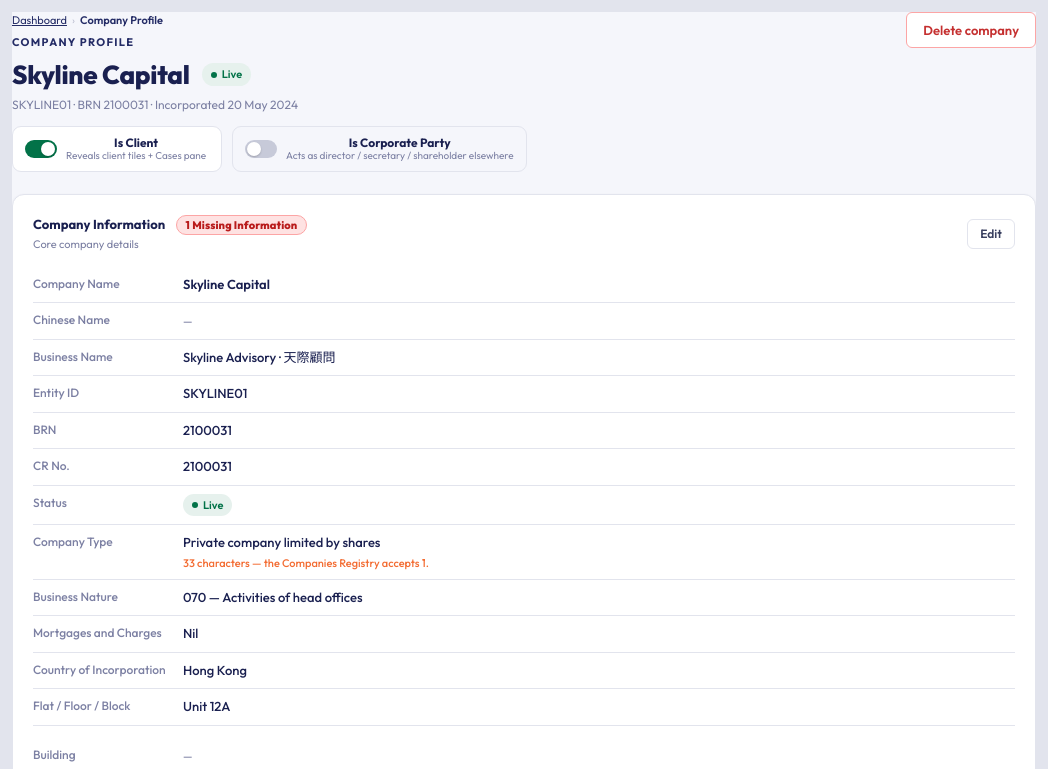
Test: CompanyProfilePage — the CR form fields › keeps a legacy free-text company type visible rather than blanking it
Click the button "Edit" at (991, 234), box 967,219 -> 1015,249
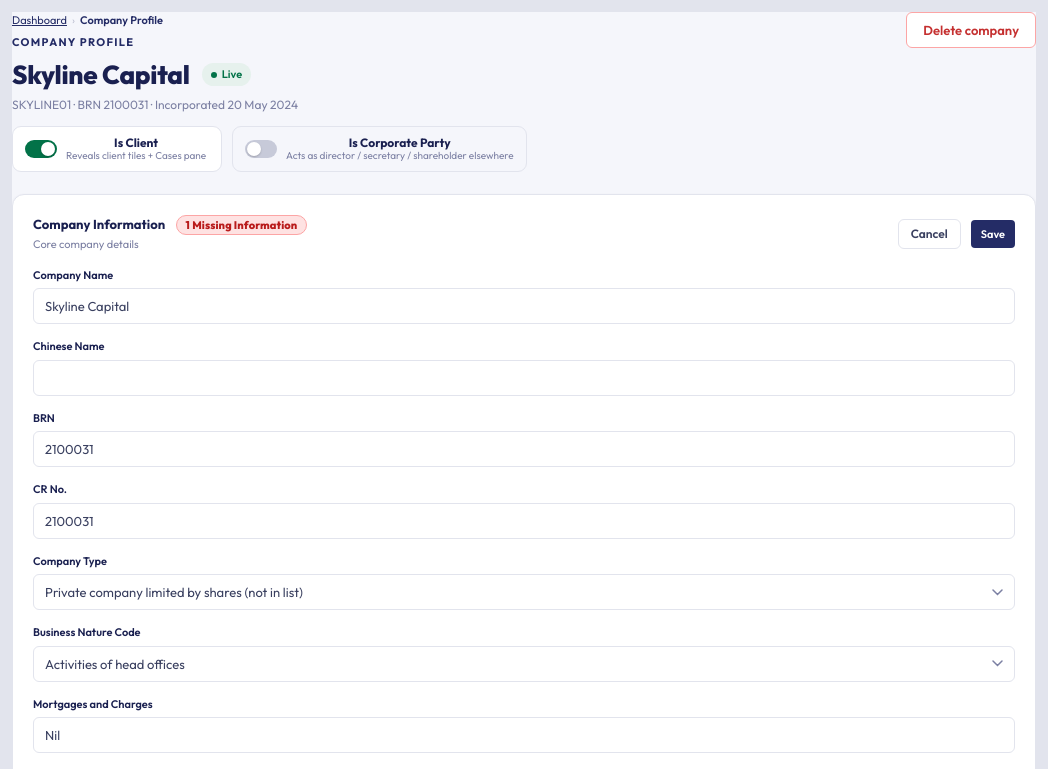
Expected: the dropdown labelled "Company Type" shows "Private company limited by shares (not in list)", 33,574 -> 1015,610
